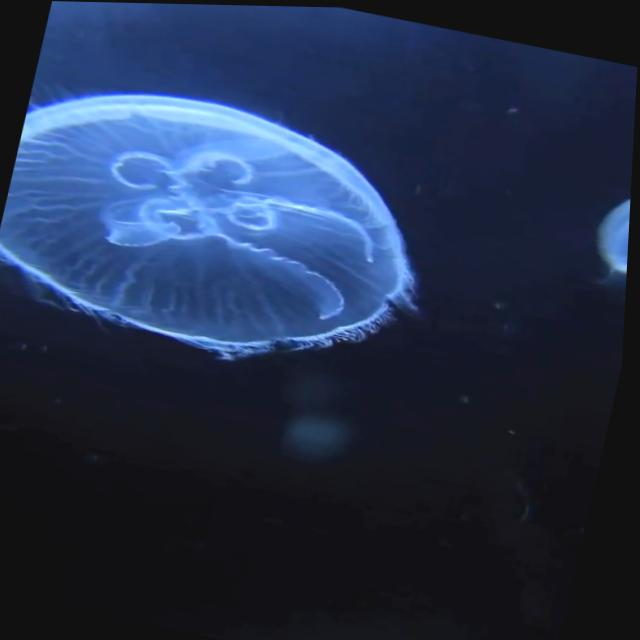Moon-jellyfish: (0, 90, 421, 360), (600, 194, 633, 272)
